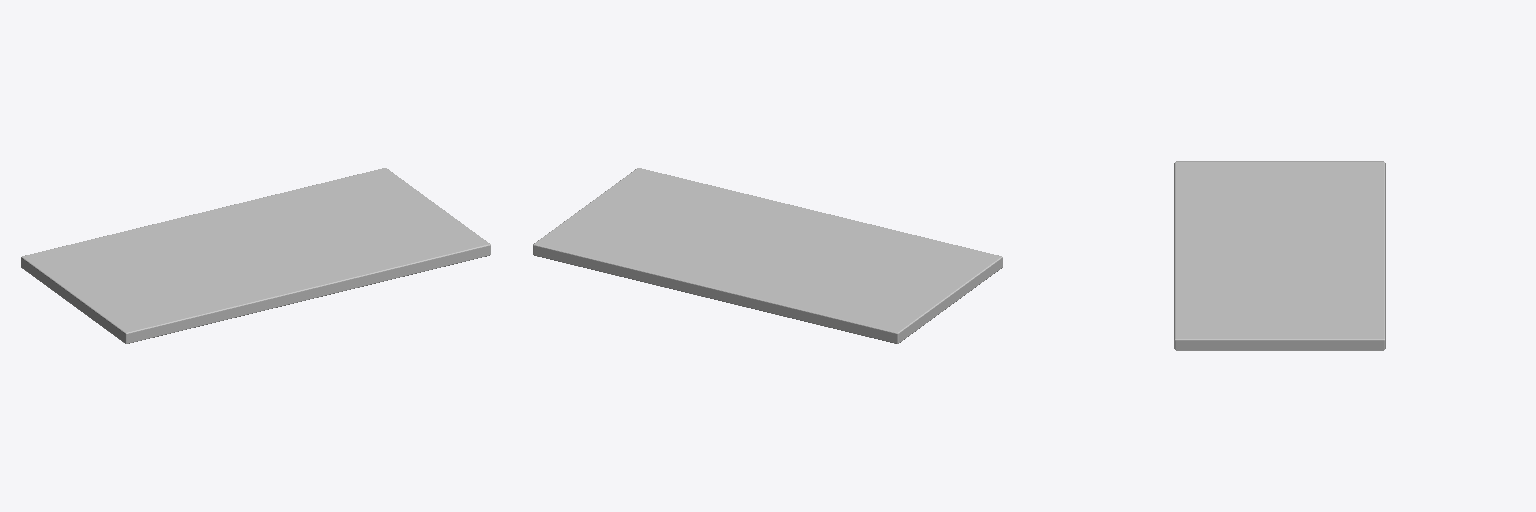
File: плита 100х50х3 горизонталь.obj
3 renders of one model, left to right at view 1: azimuth 30°, elevation 25°; view 2: azimuth 150°, elevation 25°; view 3: azimuth 270°, elevation 25°, orthographic.
Visible parts, largest first — view 1: tombstones; view 2: tombstones; view 3: tombstones.
Part boxes in pixels (x1,y1,x2,y2): tombstones: (21, 168, 490, 343); tombstones: (533, 168, 1002, 343); tombstones: (1174, 161, 1385, 350).
Bounding box in the file's own units: 100 × 3 × 50.